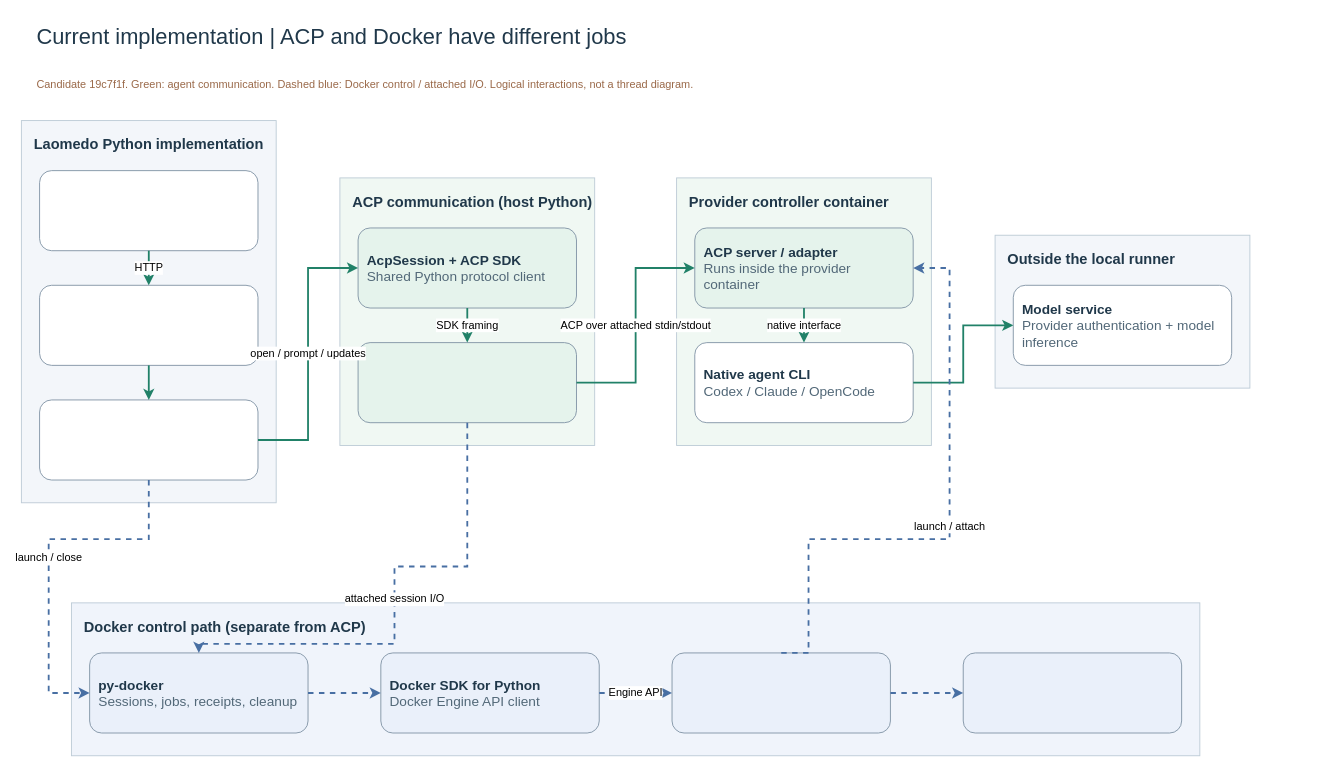
This 1325x772 diagram has some shape labels left out. Each missing label, with the centre of its shape:
"Command execution Provider-owned executor / worker policy" goes at point 1072,692.
"Concrete provider Agent Binding, policy, state and finalization" goes at point 148,439.
"Docker Engine Creates and attaches owned containers" goes at point 780,692.
"DockerTransport JSON-RPC frames through stdin/stdout" goes at point 466,382.
"Host runner API Start / Resume / status / cancel" goes at point 148,324.
"Langflow graph Agent node + shared Activity UI" goes at point 148,210.
